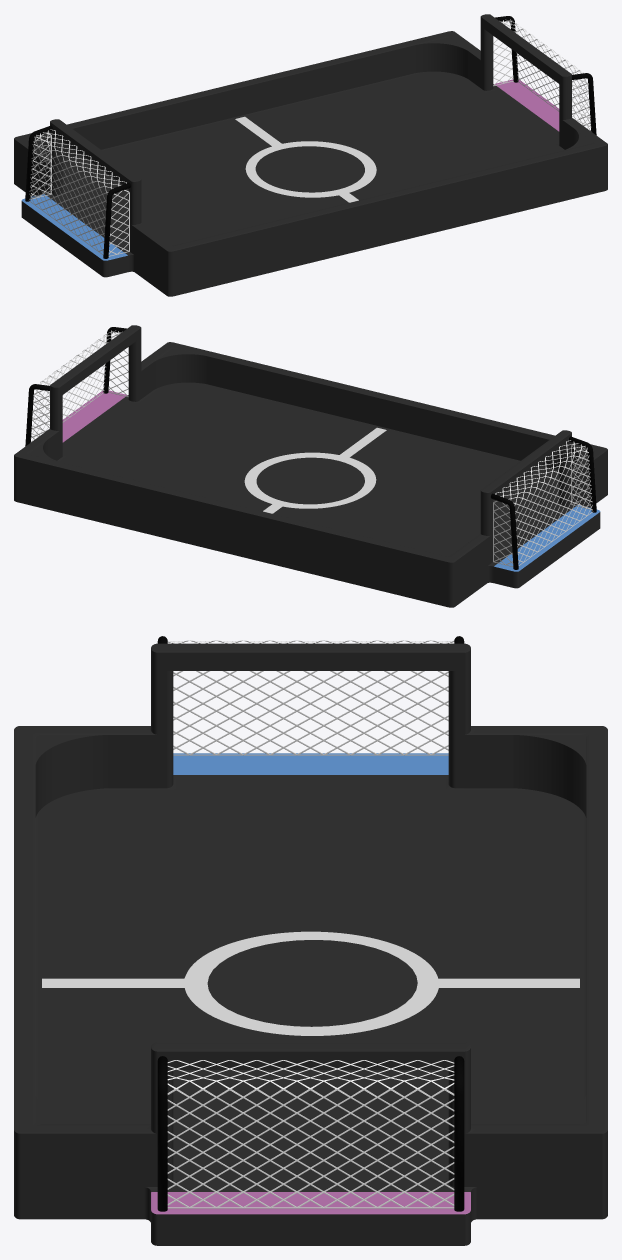
The model's file is arena.fbx.
3 renders of one model, top to bottom at view 1: azimuth 30°, elevation 25°; view 2: azimuth 150°, elevation 25°; view 3: azimuth 270°, elevation 25°, orthographic. The views are drawn at different scales.
Visible parts, largest first — view 1: Arena, NetMain.001, Corner, NetMain, Bar.002, LateralNet.003, Bar.003, LateralNet.002, Bar.001; view 2: Arena, NetMain.001, Corner.001, NetMain, Bar.003, Bar.002, LateralNet.002, Bar, LateralNet.003; view 3: Arena, NetMain, NetMain.001, Corner.003, Corner.002, Bar, Bar.001.
Part boxes in pixels (<box>): Arena: <box>14,14,607,296</box>; NetMain.001: <box>28,129,126,254</box>; Corner: <box>415,37,468,78</box>; NetMain: <box>500,19,590,130</box>; Bar.002: <box>103,182,130,258</box>; LateralNet.003: <box>108,190,129,256</box>; Bar.003: <box>25,125,52,201</box>; LateralNet.002: <box>30,132,51,199</box>; Bar.001: <box>572,73,596,135</box>; Arena: <box>14,325,607,607</box>; NetMain.001: <box>495,440,593,565</box>; Corner.001: <box>153,348,206,389</box>; NetMain: <box>31,330,122,441</box>; Bar.003: <box>491,493,518,569</box>; Bar.002: <box>569,436,596,512</box>; LateralNet.002: <box>493,500,513,566</box>; Bar: <box>25,384,49,446</box>; LateralNet.003: <box>571,444,591,509</box>; Arena: <box>14,643,607,1245</box>; NetMain: <box>167,1060,454,1208</box>; NetMain.001: <box>167,640,454,755</box>; Corner.003: <box>513,735,586,817</box>; Corner.002: <box>35,735,108,817</box>; Bar: <box>454,1056,464,1211</box>; Bar.001: <box>157,1056,167,1211</box>.
Size of the model in its own units: 69.24 by 11.81 by 37.72.
